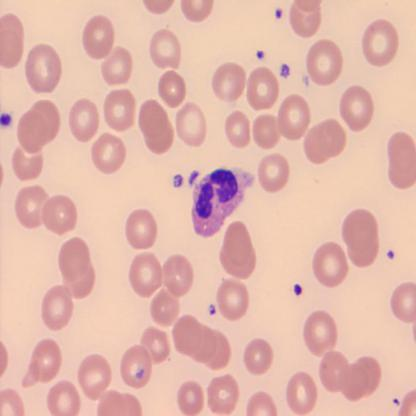Segmented neutrophil: (190, 165, 256, 239)
